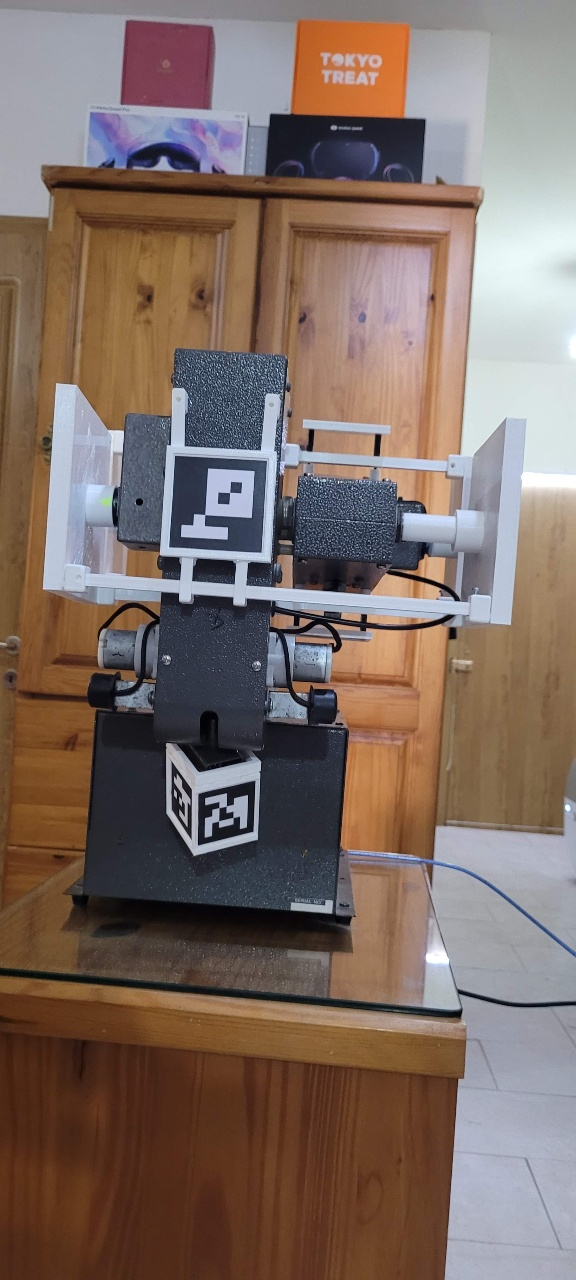Robot: (3, 301, 576, 1119)
